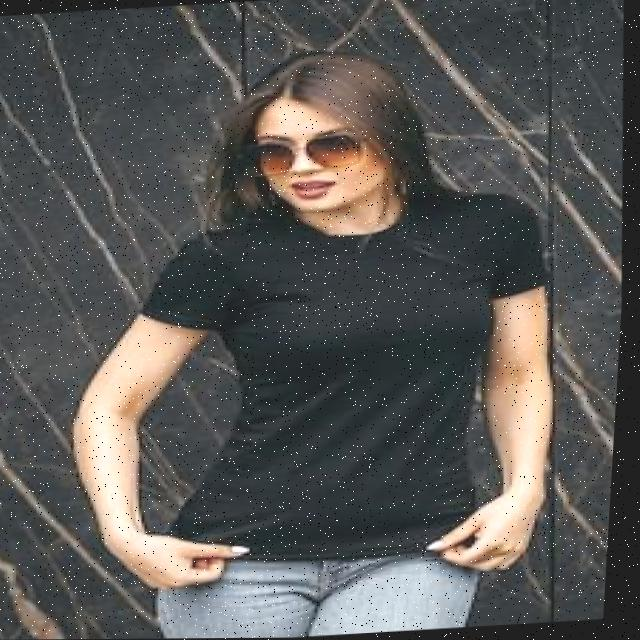Upper-Body: (143, 181, 553, 559)
